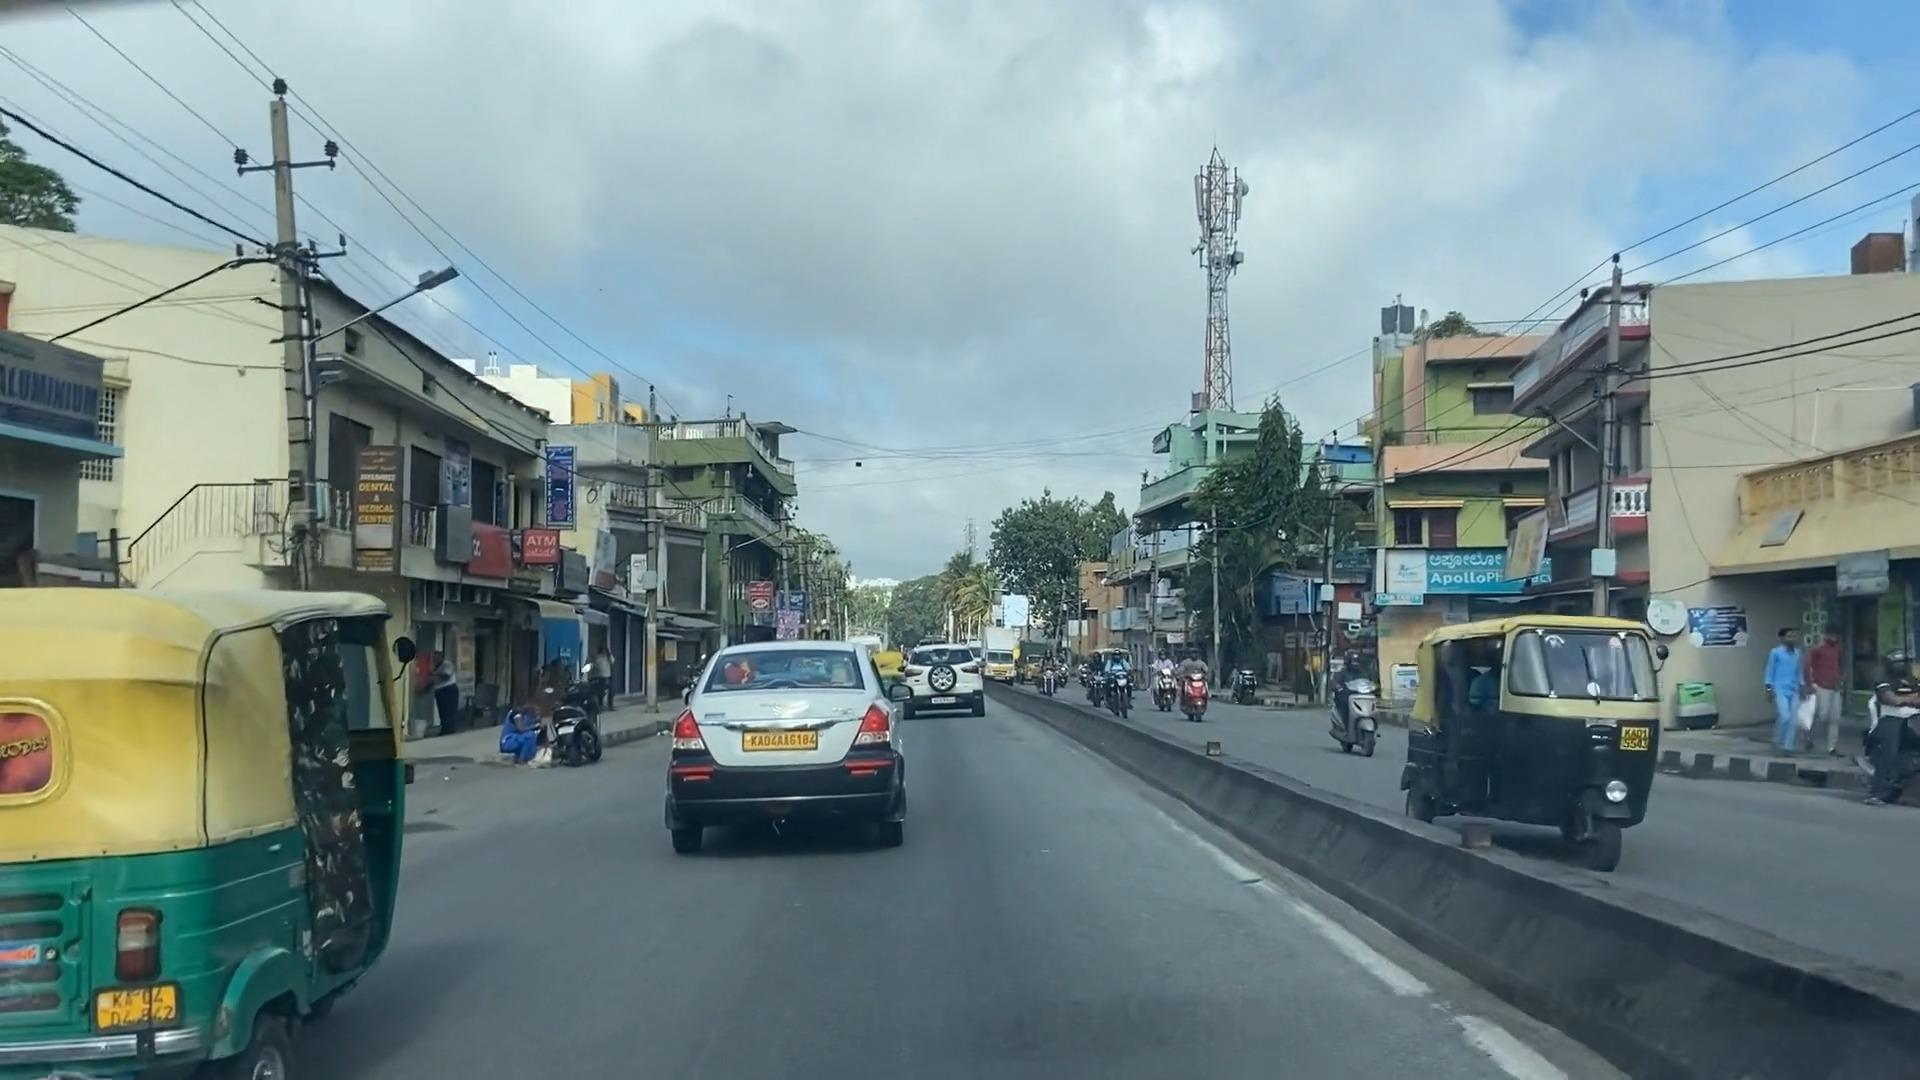LMV: (8, 584, 407, 1080), (669, 650, 899, 853), (905, 645, 982, 721), (553, 673, 600, 777)
